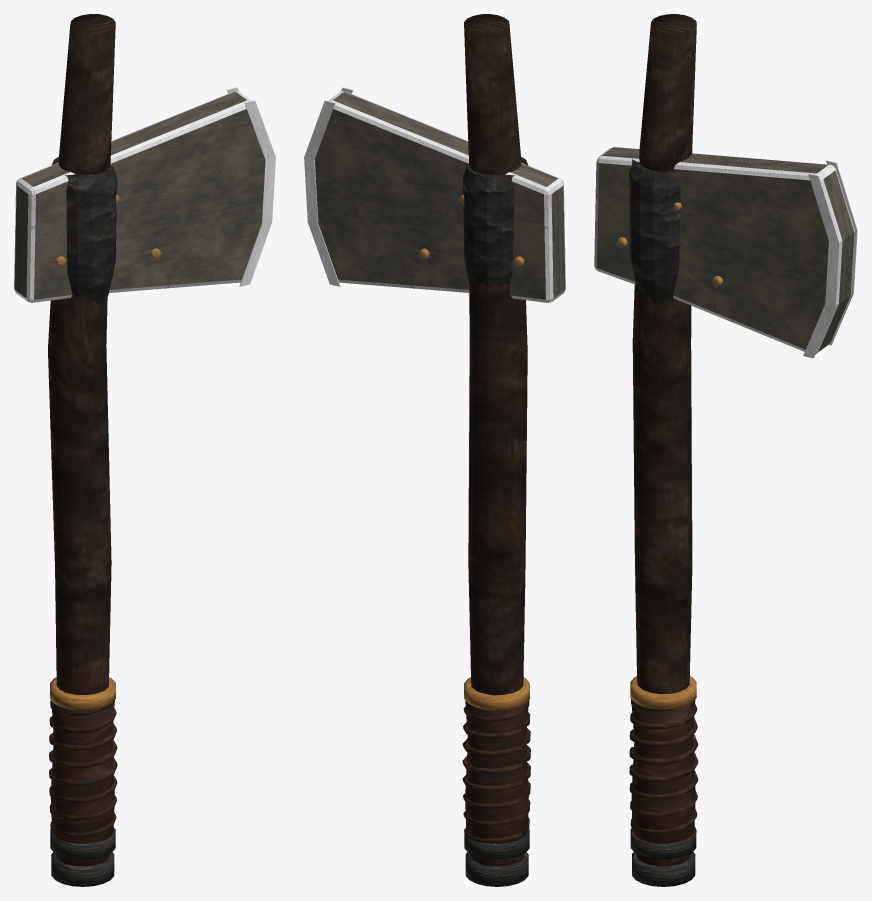
Rendered from grave_hatchet.glb.
3 views of the same model, side by side, from view 1: azimuth 30°, elevation 25°; view 2: azimuth 150°, elevation 25°; view 3: azimuth 330°, elevation 25° (orthographic).
Parts seen in each view (by area): view 1: Shaped bearded axe head, Straight palm shaft and tapered ironwood, Swaged head socket, Bound palm grip.006, Continuous bound leather seam.006, Honed cutting cheek, Socketed pommel ferrule, Grip forward ferrule.006, Grip rear ferrule.006; view 2: Shaped bearded axe head, Straight palm shaft and tapered ironwood, Bound palm grip.006, Swaged head socket, Continuous bound leather seam.006, Honed cutting cheek.001, Socketed pommel ferrule, Grip forward ferrule.006, Grip rear ferrule.006; view 3: Shaped bearded axe head, Straight palm shaft and tapered ironwood, Swaged head socket, Bound palm grip.006, Continuous bound leather seam.006, Honed cutting cheek, Socketed pommel ferrule, Grip forward ferrule.006, Grip rear ferrule.006, Honed cutting cheek.001.
Part boxes in pixels (bbox=[...]): Shaped bearded axe head: bbox=[14, 91, 265, 302]; Straight palm shaft and tapered ironwood: bbox=[48, 14, 115, 866]; Swaged head socket: bbox=[51, 156, 117, 304]; Bound palm grip.006: bbox=[50, 700, 114, 844]; Continuous bound leather seam.006: bbox=[49, 700, 117, 837]; Honed cutting cheek: bbox=[239, 100, 275, 286]; Socketed pommel ferrule: bbox=[51, 852, 114, 886]; Grip forward ferrule.006: bbox=[50, 677, 115, 710]; Grip rear ferrule.006: bbox=[50, 827, 115, 859]; Shaped bearded axe head: bbox=[315, 91, 565, 302]; Straight palm shaft and tapered ironwood: bbox=[464, 14, 527, 866]; Bound palm grip.006: bbox=[465, 701, 528, 843]; Swaged head socket: bbox=[462, 157, 528, 287]; Continuous bound leather seam.006: bbox=[462, 700, 530, 843]; Honed cutting cheek.001: bbox=[304, 100, 340, 286]; Socketed pommel ferrule: bbox=[465, 852, 528, 886]; Grip forward ferrule.006: bbox=[464, 677, 529, 710]; Grip rear ferrule.006: bbox=[464, 828, 529, 859]; Shaped bearded axe head: bbox=[594, 147, 854, 353]; Straight palm shaft and tapered ironwood: bbox=[632, 14, 696, 866]; Swaged head socket: bbox=[629, 159, 680, 302]; Bound palm grip.006: bbox=[631, 699, 695, 843]; Continuous bound leather seam.006: bbox=[629, 699, 698, 837]; Honed cutting cheek: bbox=[803, 173, 839, 358]; Socketed pommel ferrule: bbox=[632, 852, 695, 886]; Grip forward ferrule.006: bbox=[630, 676, 696, 709]; Grip rear ferrule.006: bbox=[630, 828, 696, 859]; Honed cutting cheek.001: bbox=[826, 160, 857, 345].
Size of the model in its own units: 0.3349 by 1.1 by 0.0806.
Materials: 6 (6 with a texture image).
